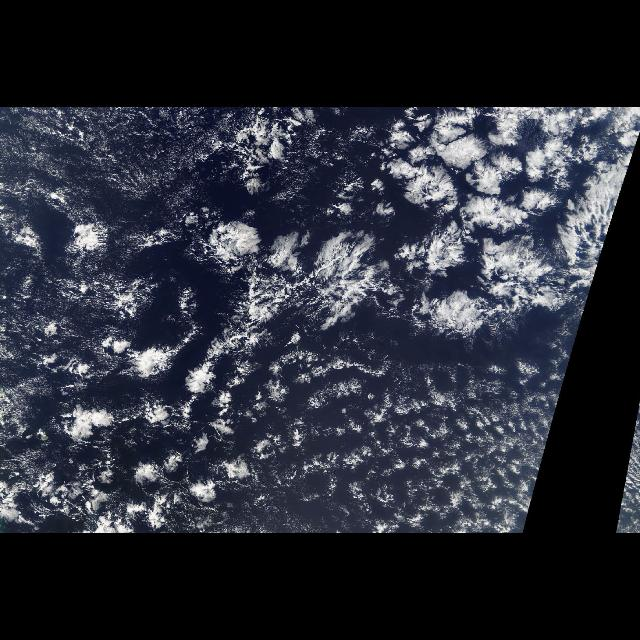Flower: (61, 219, 332, 533), (383, 110, 622, 326)
Gravel: (325, 361, 549, 534)
Sugar: (0, 109, 244, 467)
